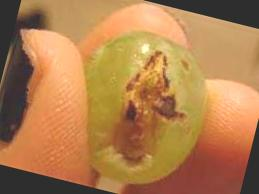Grape Rotten: (58, 18, 222, 194)
